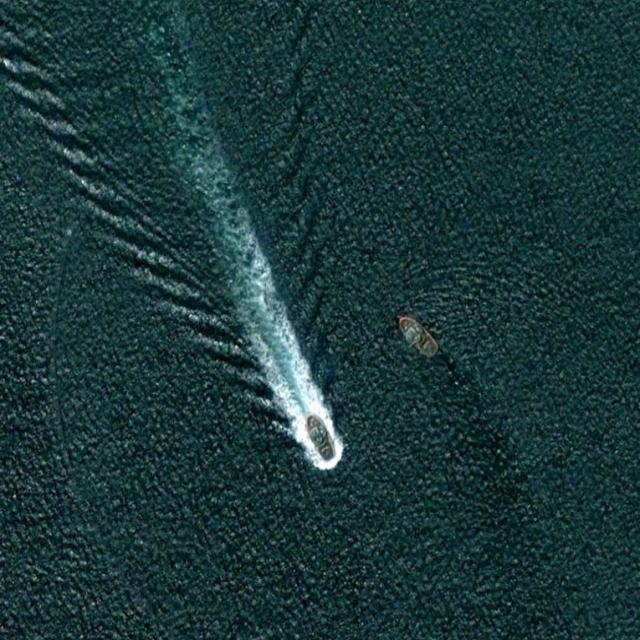Hovercraft: (392, 306, 443, 363), (302, 409, 339, 464)
